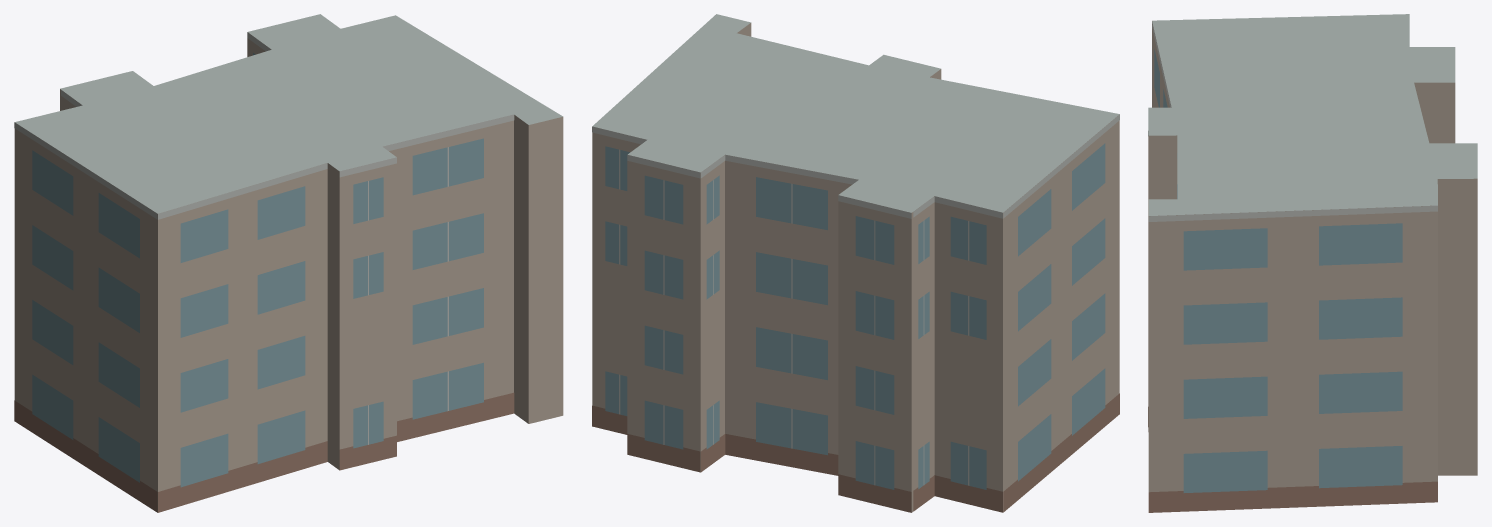
File: survey-upis-32758370.glb
3 renders of one model, left to right at view 1: azimuth 30°, elevation 25°; view 2: azimuth 150°, elevation 25°; view 3: azimuth 270°, elevation 25°, orthographic.
Parts seen in each view (by area): view 1: survey-upis-32758370.tmp; view 2: survey-upis-32758370.tmp; view 3: survey-upis-32758370.tmp.
Boxes of the visible parts, x1,y1,x2,y2 form: survey-upis-32758370.tmp: [14, 14, 563, 512]; survey-upis-32758370.tmp: [592, 14, 1119, 512]; survey-upis-32758370.tmp: [1148, 14, 1477, 512].
Bounding box in the file's own units: 17.61 × 12.05 × 12.14.
